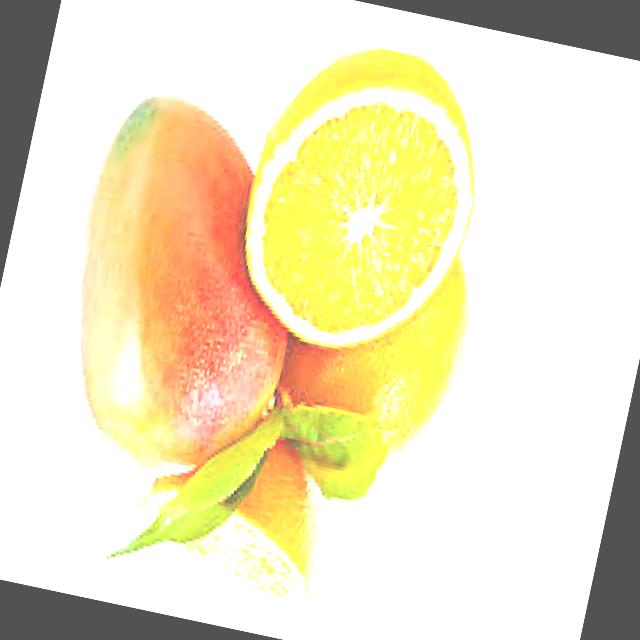Mango: (36, 86, 332, 490)
Orange: (221, 31, 505, 374), (266, 232, 482, 480), (127, 416, 342, 615)
